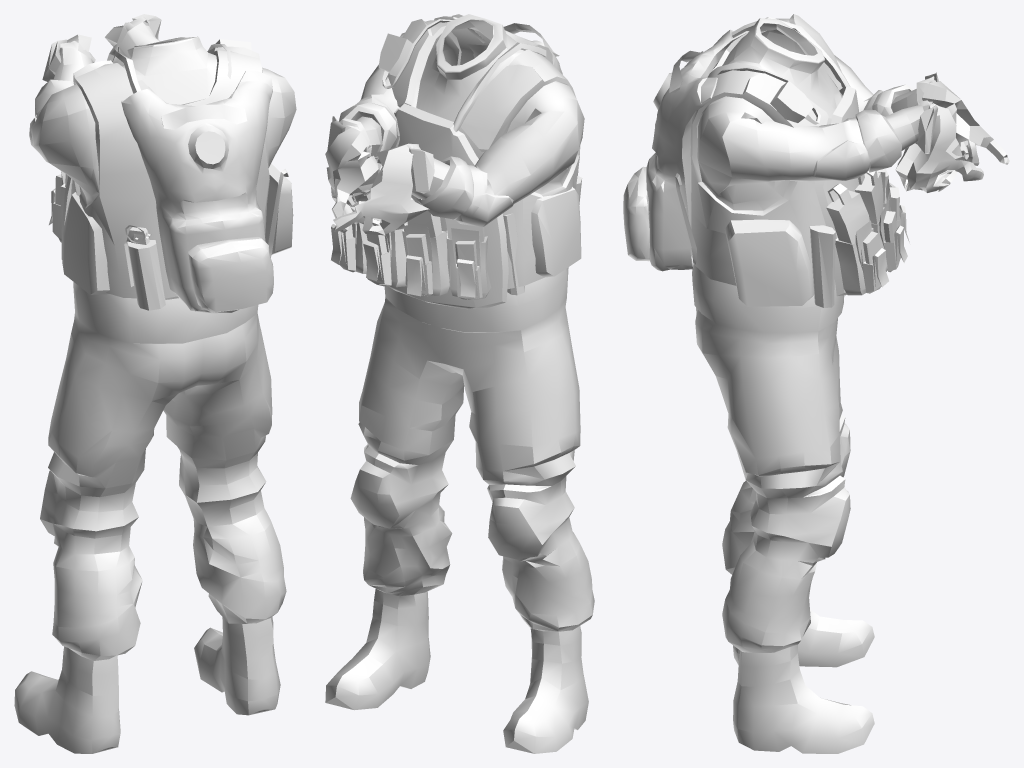
File: stf_pm.glb
3 views of the same model, side by side, from view 1: azimuth 30°, elevation 25°; view 2: azimuth 150°, elevation 25°; view 3: azimuth 270°, elevation 25° (orthographic).
Parts seen in each view (by area): view 1: body_STF, gear_STF; view 2: body_STF, gear_STF; view 3: body_STF, gear_STF.
Boxes of the visible parts, x1,y1,x2,y2 form: body_STF: (14, 14, 296, 753); gear_STF: (49, 39, 293, 313); body_STF: (325, 14, 594, 753); gear_STF: (331, 14, 582, 299); body_STF: (685, 14, 1009, 753); gear_STF: (623, 17, 909, 307).
Size of the model in its own units: 57.6 by 164 by 85.05.
2 materials, 2 textured.
